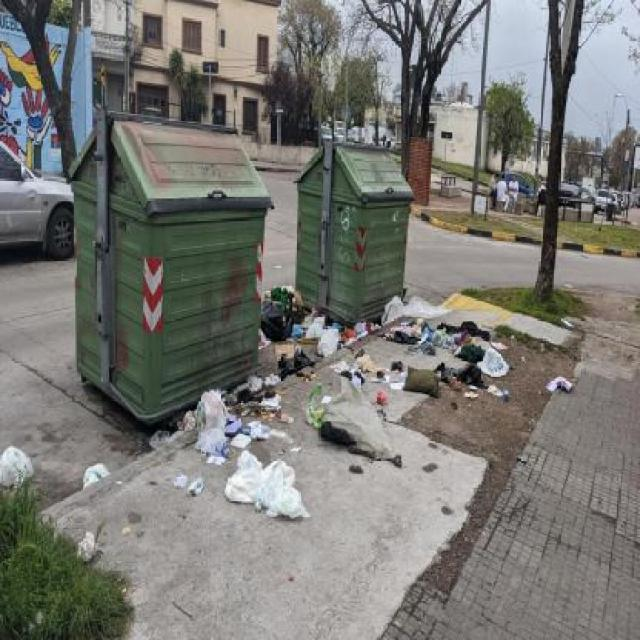garbage: (265, 273, 572, 470), (162, 371, 421, 570), (0, 409, 212, 580)
